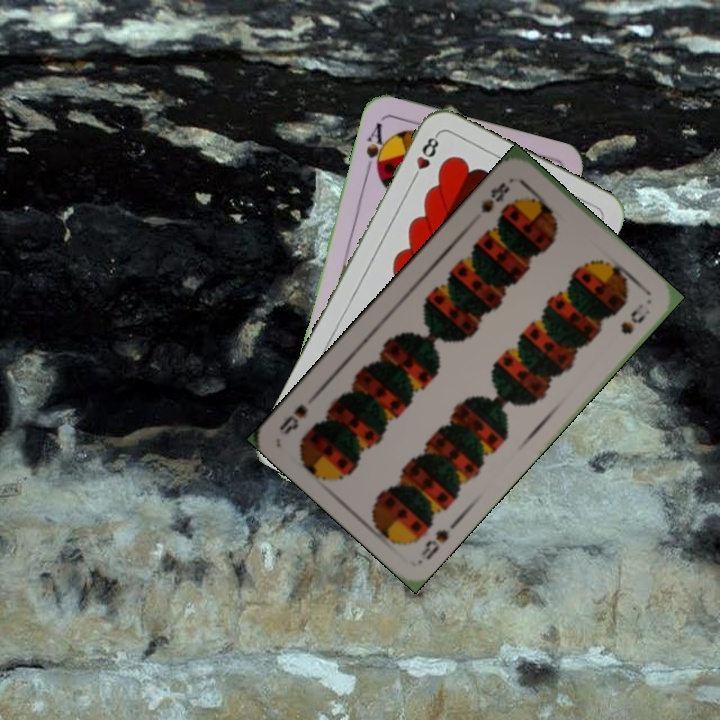H8: (407, 131, 442, 186)
S8: (477, 178, 513, 216), (417, 525, 452, 563)
SA: (362, 119, 390, 178)
